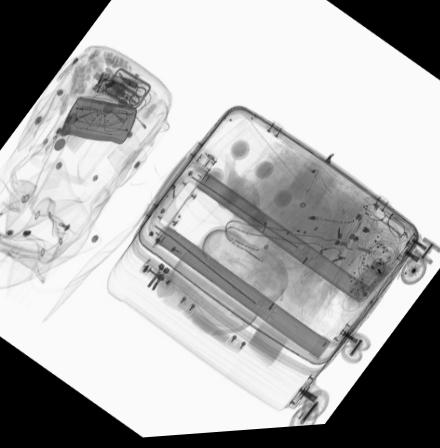Lighter: (55, 57, 79, 82)
Scissors: (119, 82, 147, 108)
